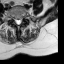CCS_normal: (17, 15, 19, 27)
LFS_stenosis: (21, 13, 24, 21)
LLS_normal: (19, 15, 21, 25)
RFS_stenosis: (12, 14, 14, 22)
RLS_normal: (14, 15, 17, 25)
